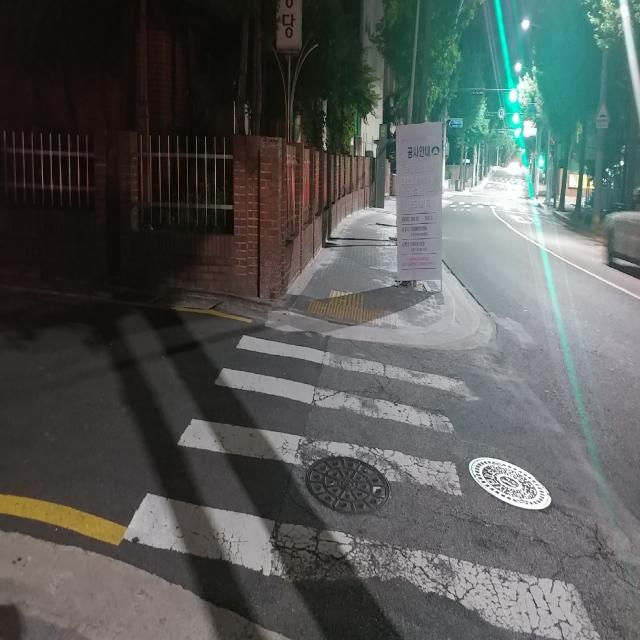횡단보도: (123, 335, 602, 640)
